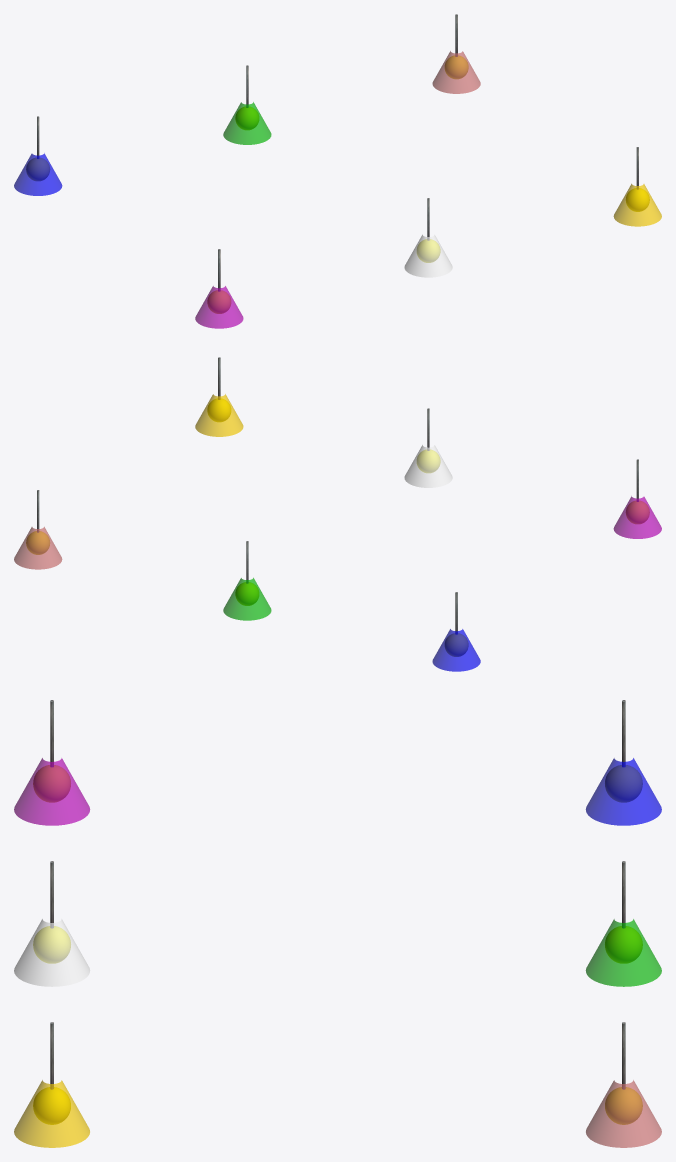
The model's file is lumiere.glb.
The picture shows the model from 3 angles, top to bottom: view 1: azimuth 30°, elevation 25°; view 2: azimuth 150°, elevation 25°; view 3: azimuth 270°, elevation 25°; orthographic projection. The views are drawn at different scales.
Size of the model in its own units: 44 by 6.3 by 34.
Materials: 18 (6 with a texture image).
